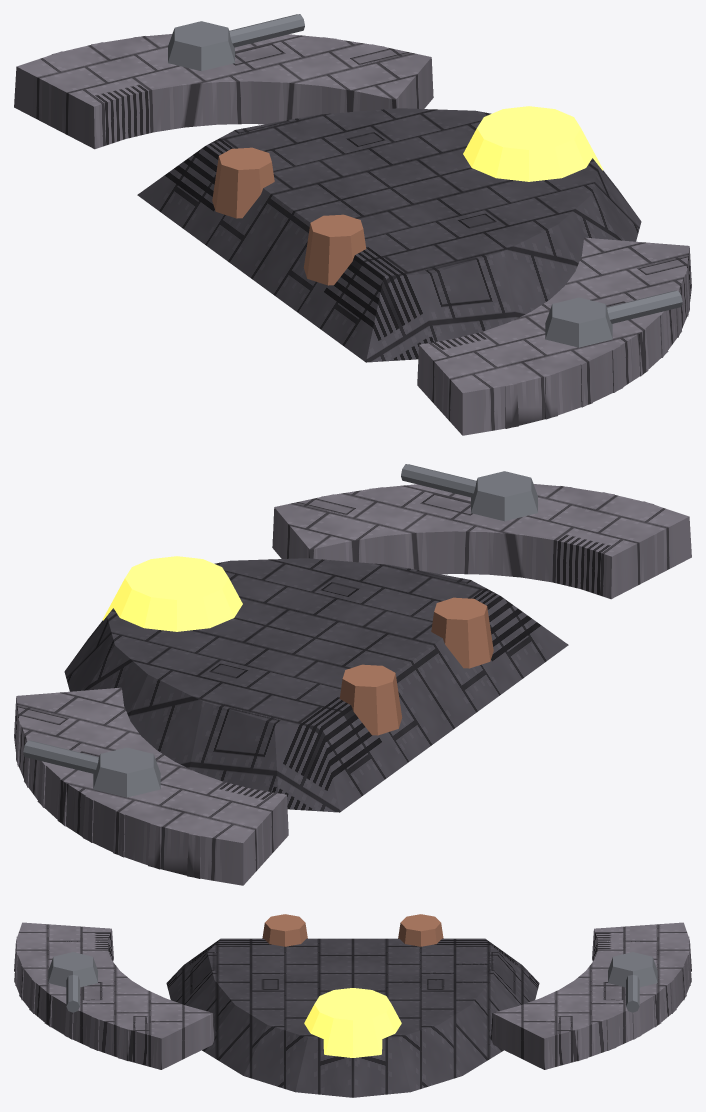
Rendered from furnace_ember.glb.
3 views of the same model, one above another, from view 1: azimuth 30°, elevation 25°; view 2: azimuth 150°, elevation 25°; view 3: azimuth 270°, elevation 25° (orthographic). The views are drawn at different scales.
Size of the model in its own units: 38.33 by 8 by 79.95.
7 materials, 3 textured.
